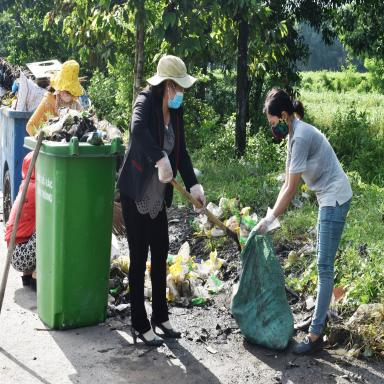plasticbag: (230, 211, 294, 348), (38, 102, 123, 152), (164, 244, 225, 312), (193, 195, 259, 243), (151, 149, 176, 185), (179, 180, 208, 210)
